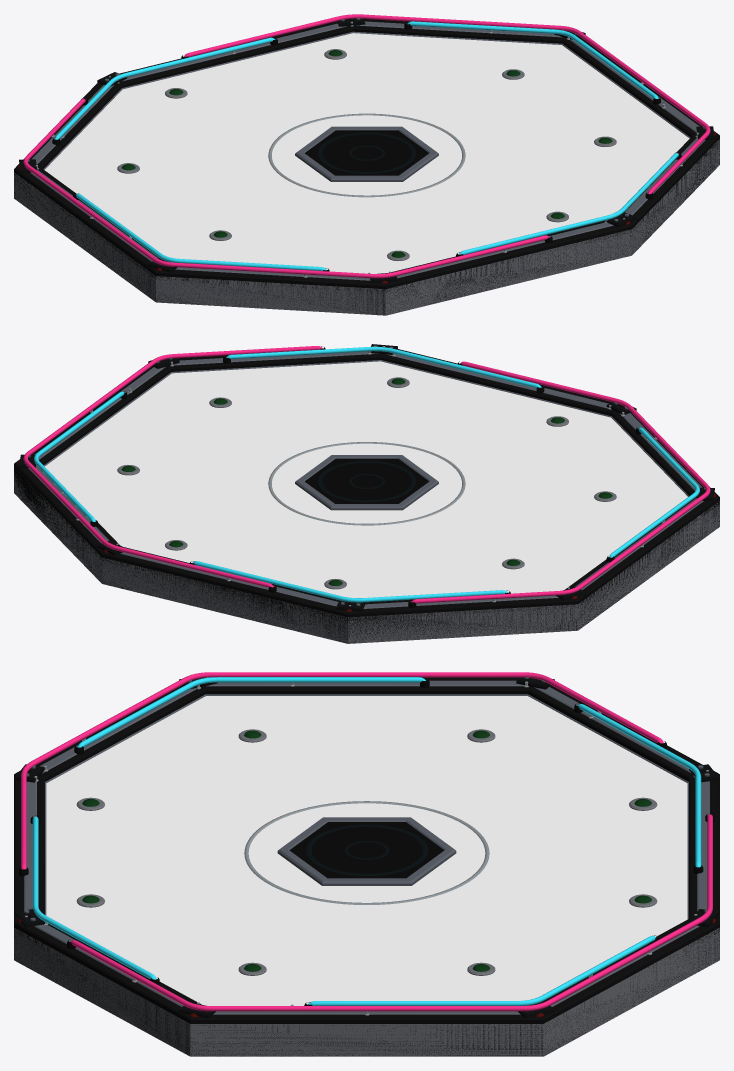
The model's file is pads.glb.
The picture shows the model from 3 angles, top to bottom: view 1: azimuth 30°, elevation 25°; view 2: azimuth 150°, elevation 25°; view 3: azimuth 270°, elevation 25°; orthographic projection. The views are drawn at different scales.
Parts seen in each view (by area): view 1: helipad_deck, afterglow_deck, helipad_kerb, afterglow_box, mainframe_rim, mainframe_deck, afterglow_pink, afterglow_cyan, mainframe_glass, smiley_deck, mainframe_collar, smiley_rim (+6 smaller); view 2: mainframe_deck, helipad_deck, afterglow_deck, afterglow_box, helipad_kerb, smiley_deck, mainframe_rim, afterglow_pink, smiley_rim, afterglow_cyan, mainframe_glass, mainframe_collar (+6 smaller); view 3: afterglow_deck, helipad_deck, helipad_kerb, afterglow_box, mainframe_rim, mainframe_deck, smiley_deck, afterglow_pink, mainframe_glass, afterglow_cyan, mainframe_collar, smiley_rim (+7 smaller).
Boxes of the visible parts, x1,y1,x2,y2 form: helipad_deck: (45,33,689,273); afterglow_deck: (44,40,658,273); helipad_kerb: (14,139,719,315); afterglow_box: (14,19,719,315); mainframe_rim: (14,21,719,315); mainframe_deck: (46,34,688,261); afterglow_pink: (23,14,710,278); afterglow_cyan: (54,21,678,254); mainframe_glass: (305,130,428,175); smiley_deck: (106,33,637,224); mainframe_collar: (295,126,438,181); smiley_rim: (24,162,714,314); mainframe_deck: (65,362,669,597); helipad_deck: (68,361,655,597); afterglow_deck: (84,367,678,597); afterglow_box: (14,349,719,643); helipad_kerb: (14,467,719,643); smiley_deck: (44,362,687,597); mainframe_rim: (14,351,719,643); afterglow_pink: (23,346,710,603); smiley_rim: (14,468,719,643); afterglow_cyan: (34,346,541,602); mainframe_glass: (305,458,428,503); mainframe_collar: (295,455,438,510); afterglow_deck: (46,696,687,1005); helipad_deck: (46,696,687,1005); helipad_kerb: (14,927,719,1056); afterglow_box: (14,677,719,1056); mainframe_rim: (14,680,719,1056); mainframe_deck: (47,696,686,1005); smiley_deck: (46,697,687,1005); afterglow_pink: (21,672,712,1011); mainframe_glass: (289,822,444,878); afterglow_cyan: (32,704,701,1005); mainframe_collar: (277,817,456,885); smiley_rim: (14,929,719,1056).
Bounding box in the file's own units: 1.72 × 0.1092 × 1.5.
